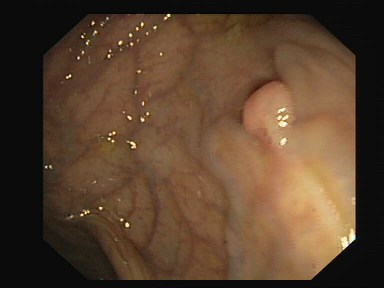polyp: (238, 79, 298, 149)
